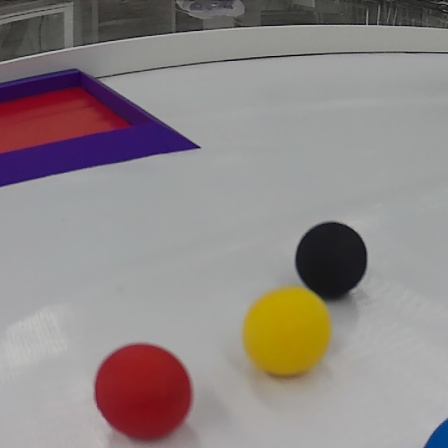black: (292, 212, 370, 299)
red: (95, 338, 198, 440)
red_aim: (2, 66, 204, 195)
yellow: (241, 285, 332, 383)
